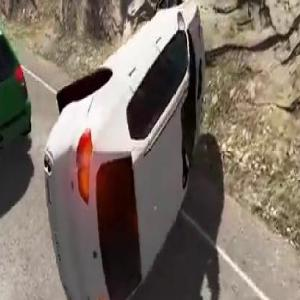serious: (40, 0, 207, 300)
